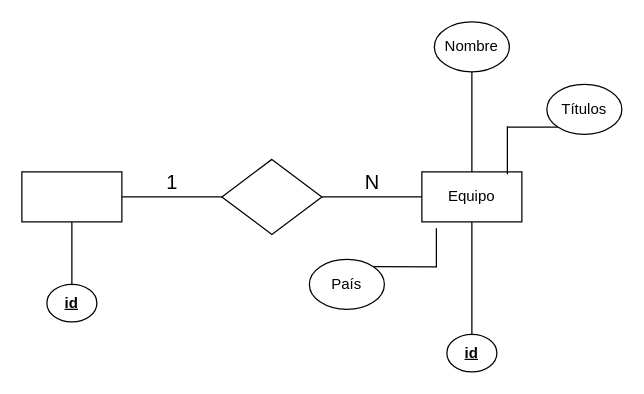
Image size: 644x394. Some labels were removed from this diagram. The shapes that lost their labels are listed below. From the top down, each one's box as (x1, y1, x2, y2) in pixels, then its label:
(21, 171, 122, 222): Liga
(221, 158, 322, 234): tiene
